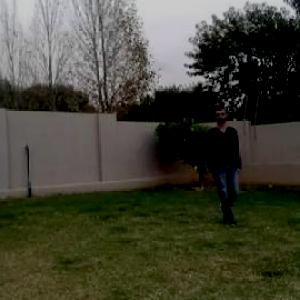follow: (211, 107, 240, 221)
